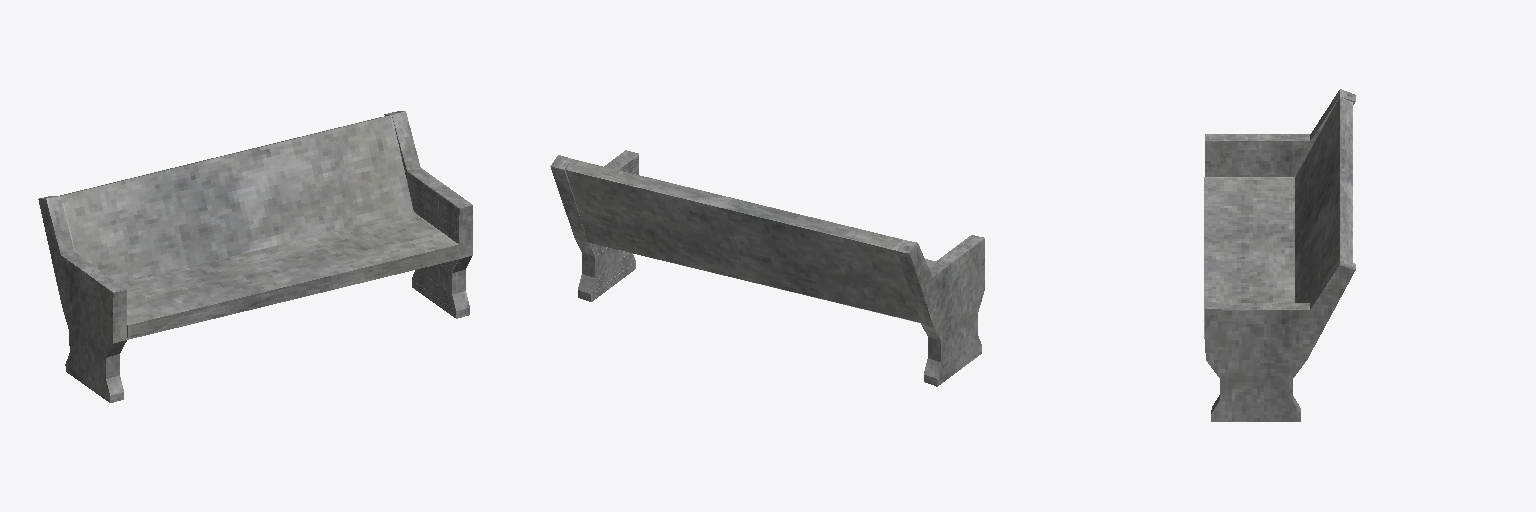
3 views of the same model, side by side, from view 1: azimuth 30°, elevation 25°; view 2: azimuth 150°, elevation 25°; view 3: azimuth 270°, elevation 25° (orthographic).
Parts seen in each view (by area): view 1: default; view 2: default; view 3: default.
Boxes of the visible parts, x1,y1,x2,y2 form: default: [38, 111, 472, 402]; default: [550, 150, 984, 386]; default: [1204, 89, 1355, 421].
Bounding box in the file's own units: 4.14 × 1.74 × 1.51.
1 materials, 1 textured.